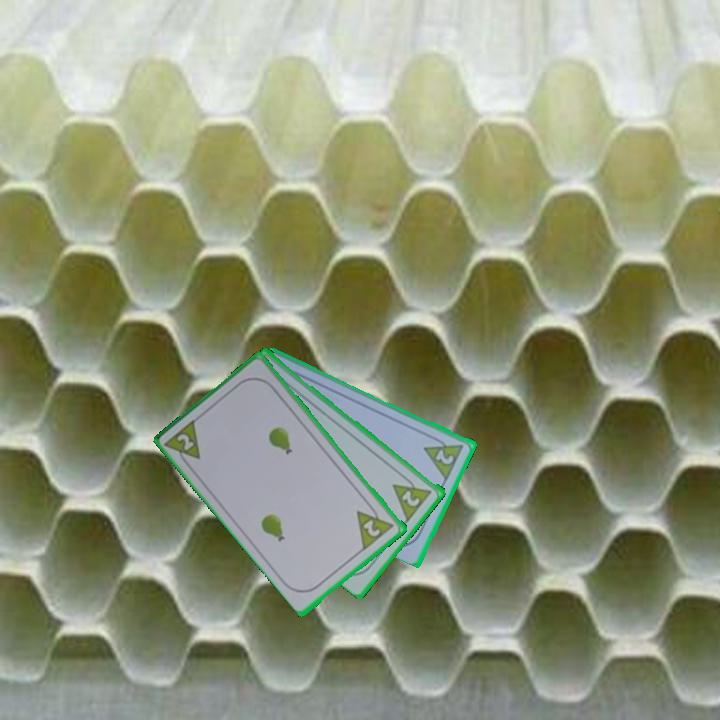2p: (389, 470, 435, 523), (162, 415, 204, 471), (360, 516, 384, 540), (432, 446, 457, 467)
